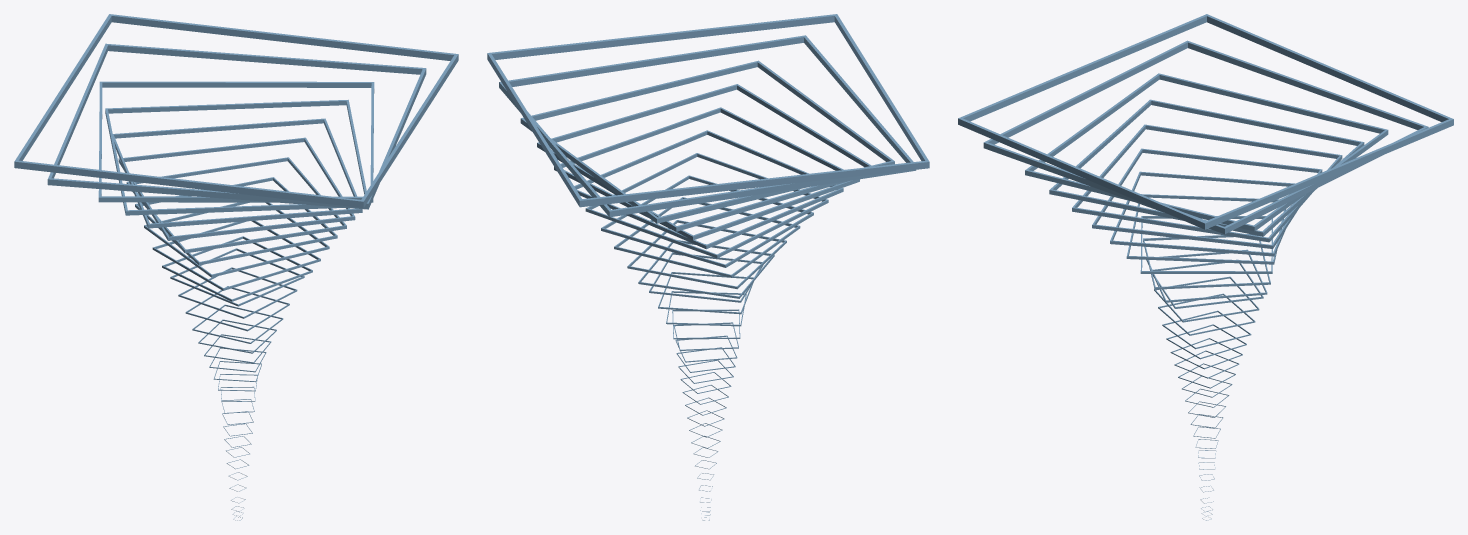
File: background.glb
3 renders of one model, left to right at view 1: azimuth 30°, elevation 25°; view 2: azimuth 150°, elevation 25°; view 3: azimuth 270°, elevation 25°, orthographic. The views are drawn at different scales.
Parts seen in each view (by area): view 1: Object_2; view 2: Object_2; view 3: Object_2.
Part boxes in pixels (x1,y1,x2,y2): Object_2: (14, 14, 458, 520); Object_2: (487, 14, 929, 520); Object_2: (958, 14, 1453, 520).
Bounding box in the file's own units: 144 × 128 × 144.
